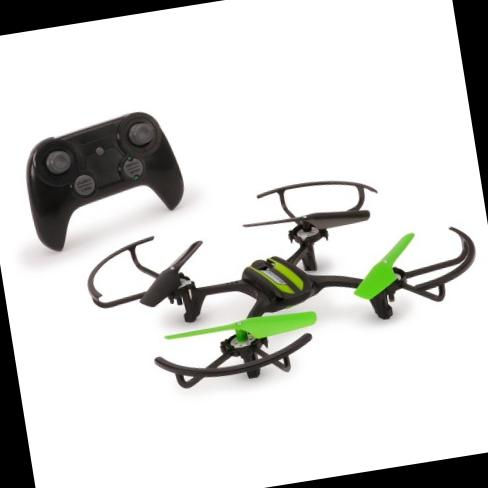drone: (64, 131, 488, 403)
